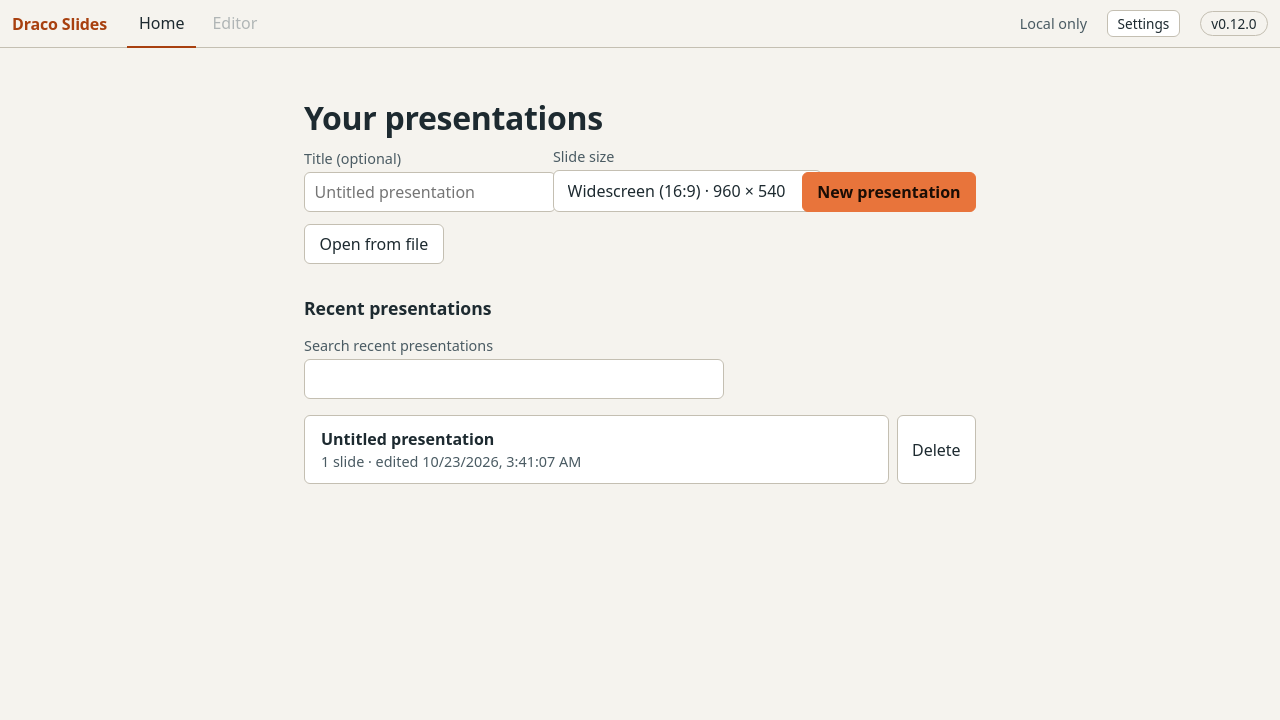
it: Editor layout › File > Close presentation returns to Home and disables Editor
Click the button "New presentation" at (889, 192), box top-left (802, 172), bottom-right (976, 212)
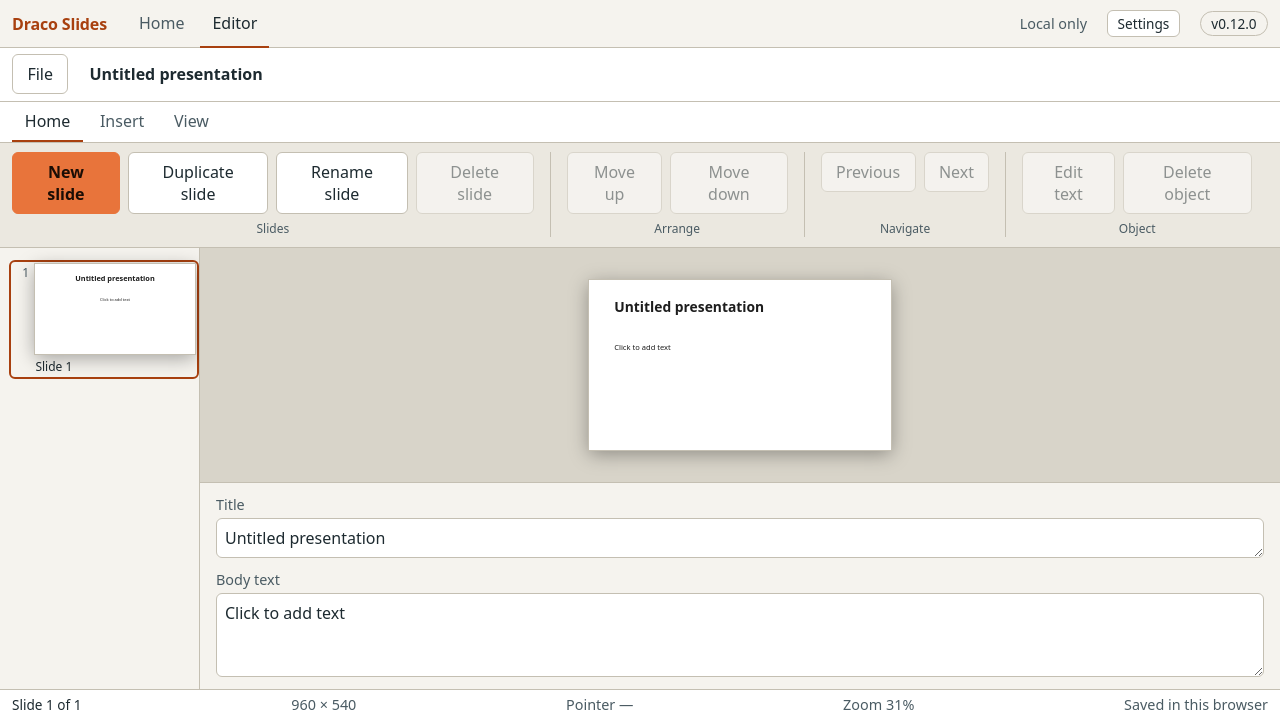
Click the button "File" at (40, 74), box top-left (12, 54), bottom-right (68, 94)
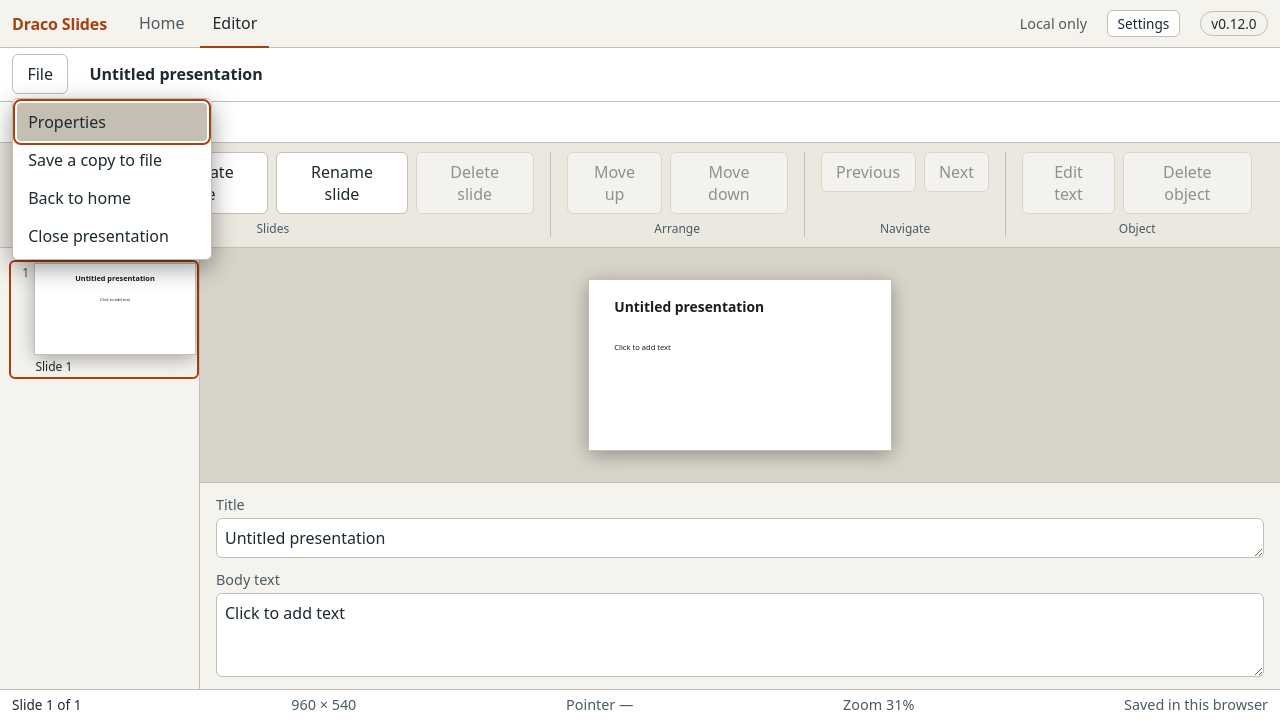
Click the menu item "Close presentation" at (112, 236), box top-left (17, 217), bottom-right (207, 255)
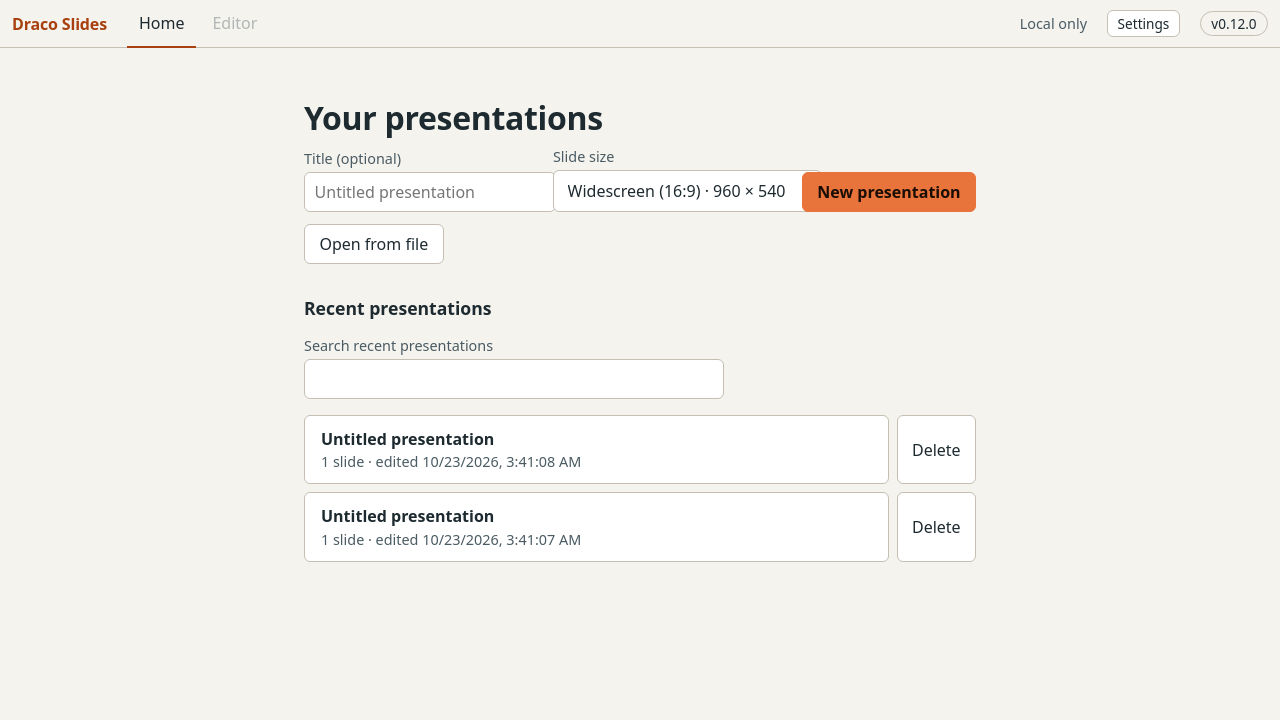
Expected: the heading "Your presentations" is shown, top-left (304, 96), bottom-right (603, 139)
